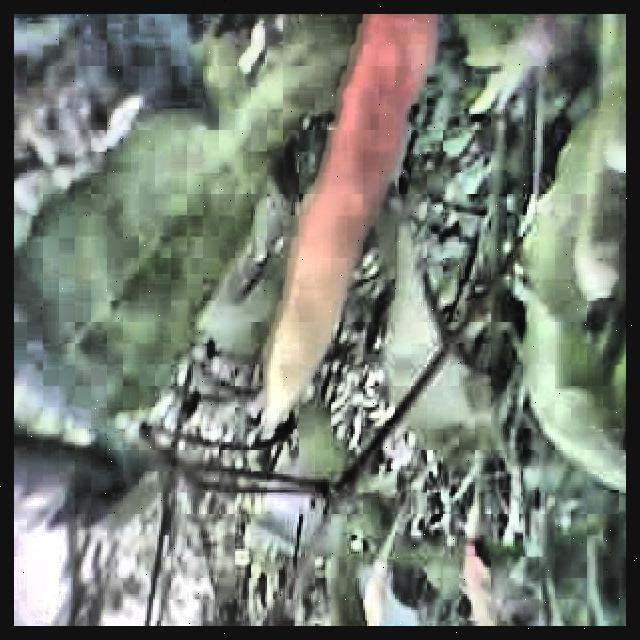Cabai: (247, 14, 434, 428)
